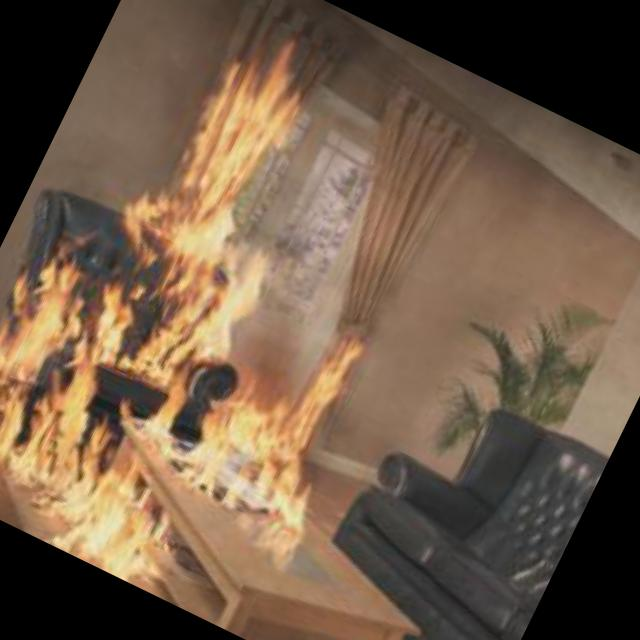fire: (0, 148, 414, 640), (153, 3, 348, 235)
